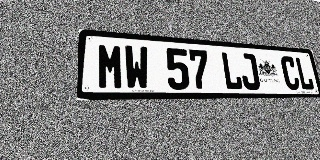5: (166, 48, 190, 90)
7: (187, 49, 211, 90)
C: (280, 56, 301, 90)
J: (238, 53, 261, 90)
L: (220, 52, 243, 90), (294, 57, 315, 90)
M: (97, 43, 124, 90)
W: (124, 45, 150, 90)
